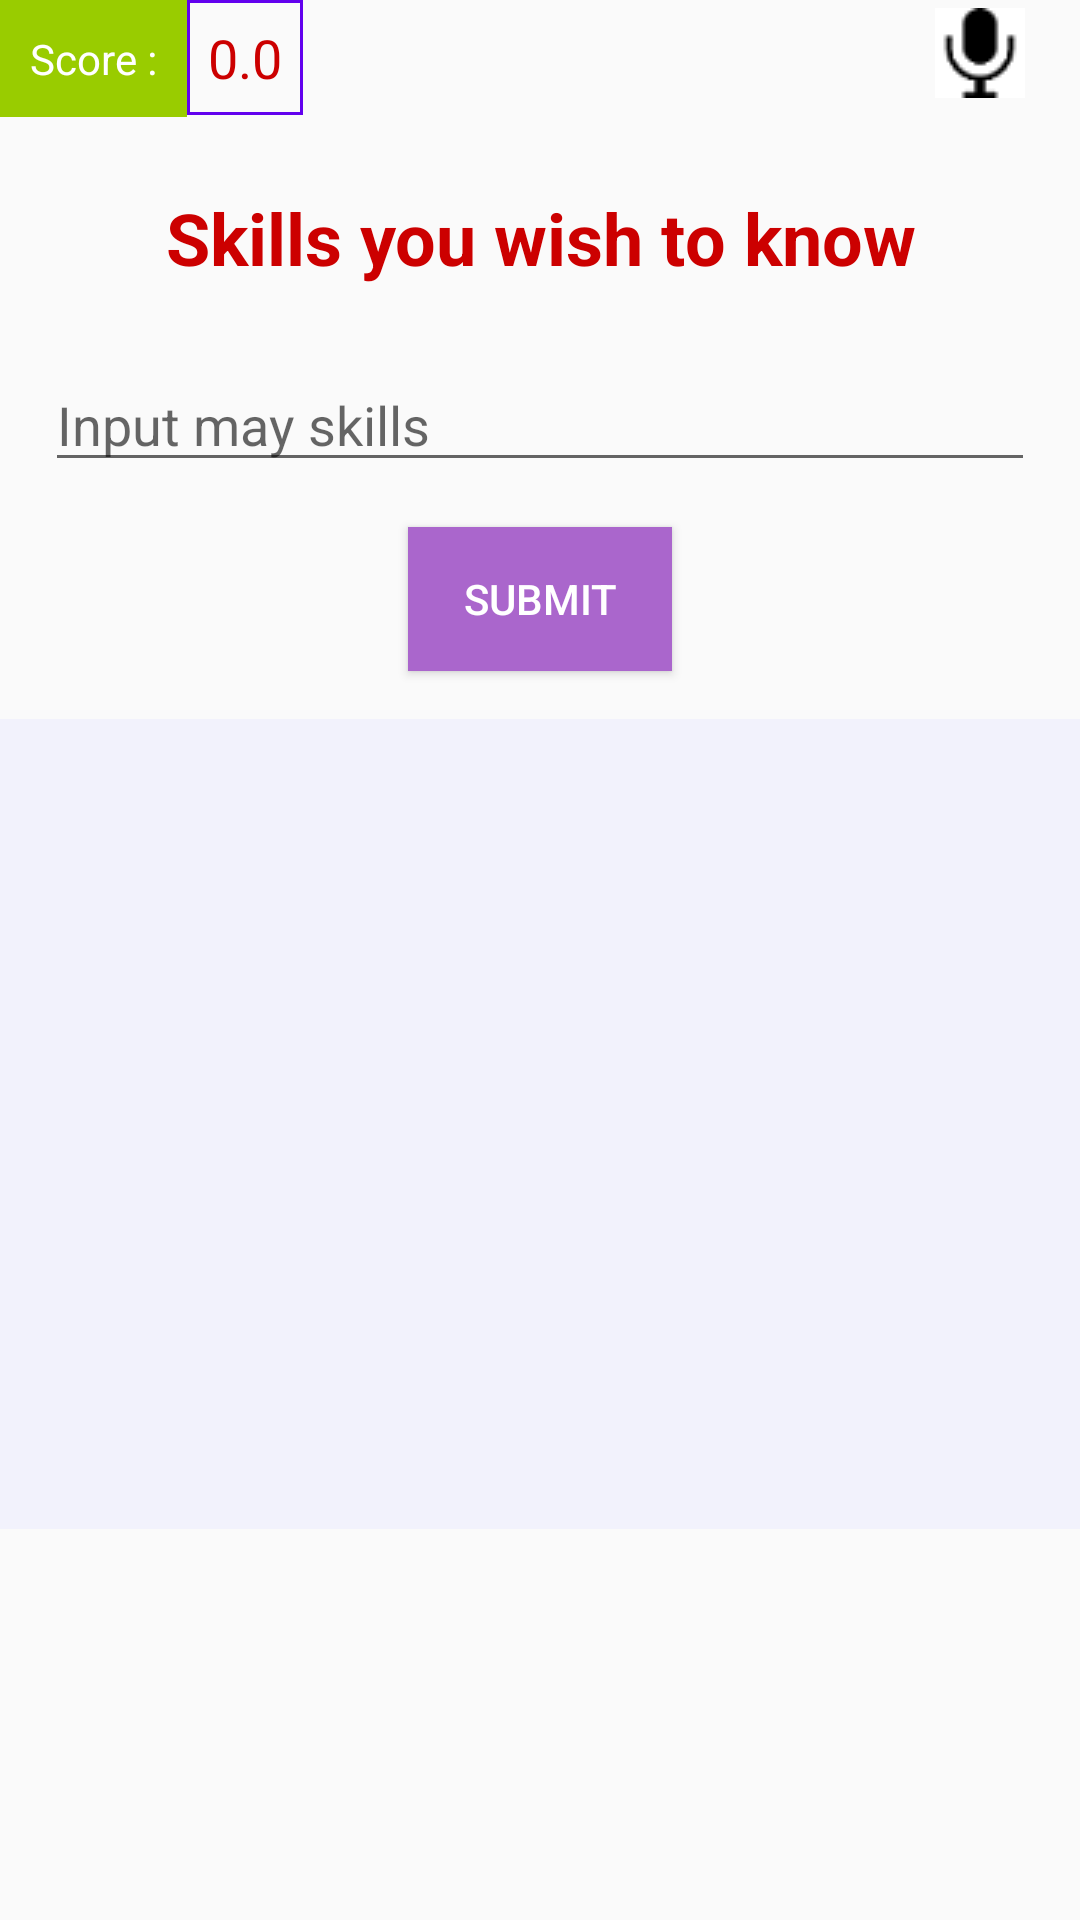

Named icons in this screenshot (1080*1920) and their centers, (x,y):
micro: (980,53)
